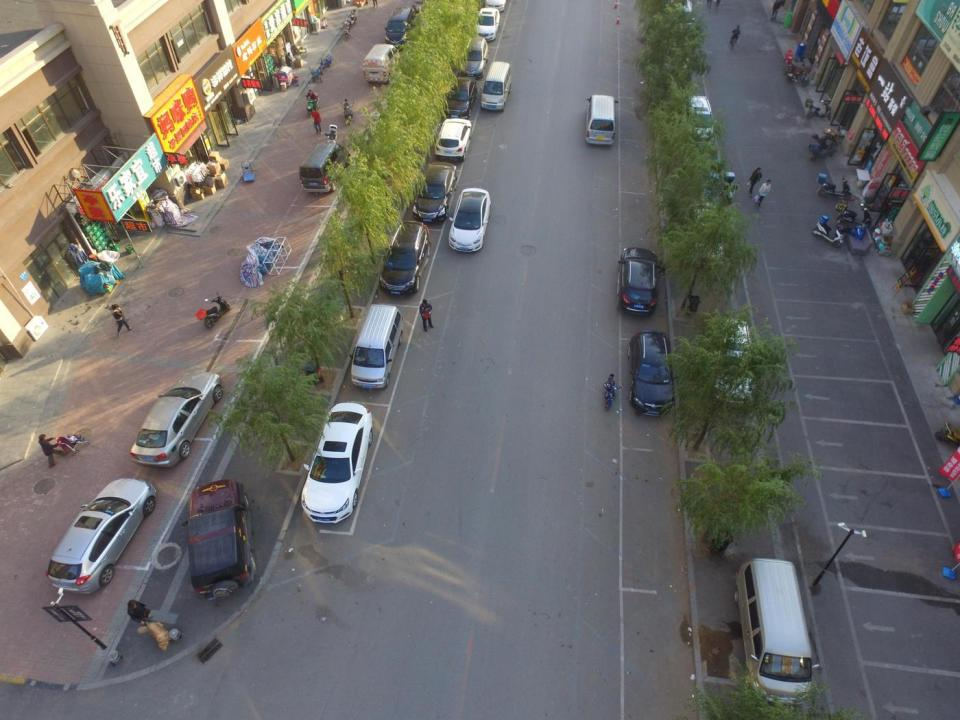car: (44, 477, 158, 595), (128, 369, 223, 470), (300, 400, 374, 526), (182, 479, 256, 602), (626, 328, 675, 417), (378, 220, 431, 298), (615, 248, 662, 318), (411, 160, 458, 224), (447, 187, 491, 253), (689, 200, 724, 270), (284, 336, 324, 390), (434, 117, 472, 161), (686, 94, 717, 142), (444, 75, 477, 120), (458, 36, 490, 79), (384, 6, 413, 52), (474, 6, 500, 42)
van: (733, 556, 819, 708), (348, 301, 404, 390), (710, 318, 756, 410), (298, 141, 352, 194), (584, 94, 619, 146), (480, 61, 513, 112), (362, 43, 400, 84)
